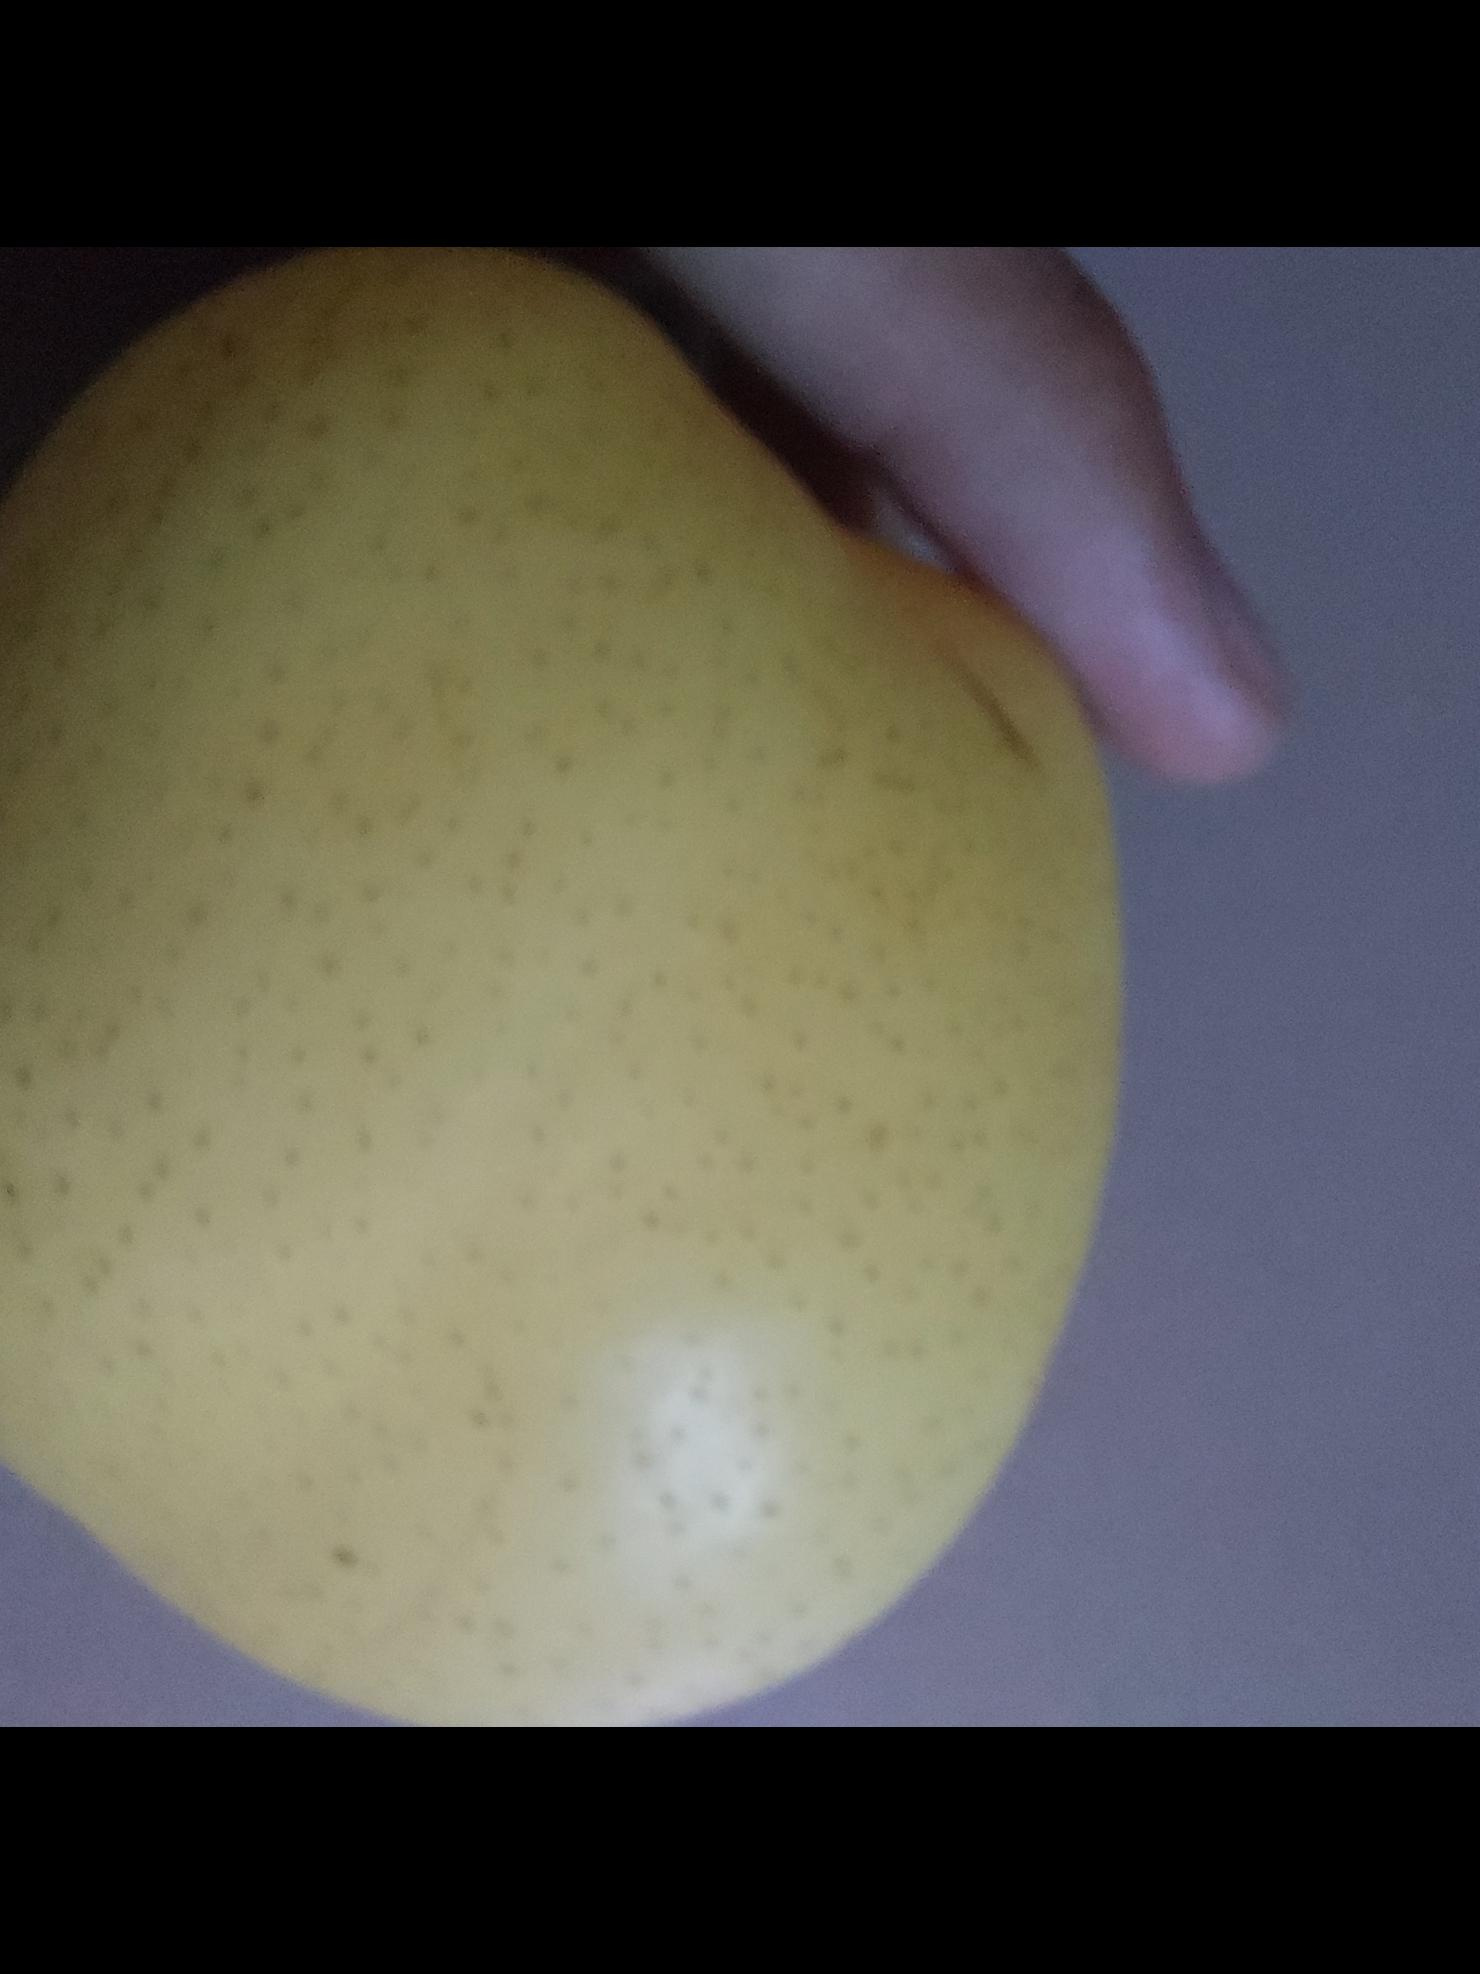Good Pear: (0, 247, 1130, 1727)
